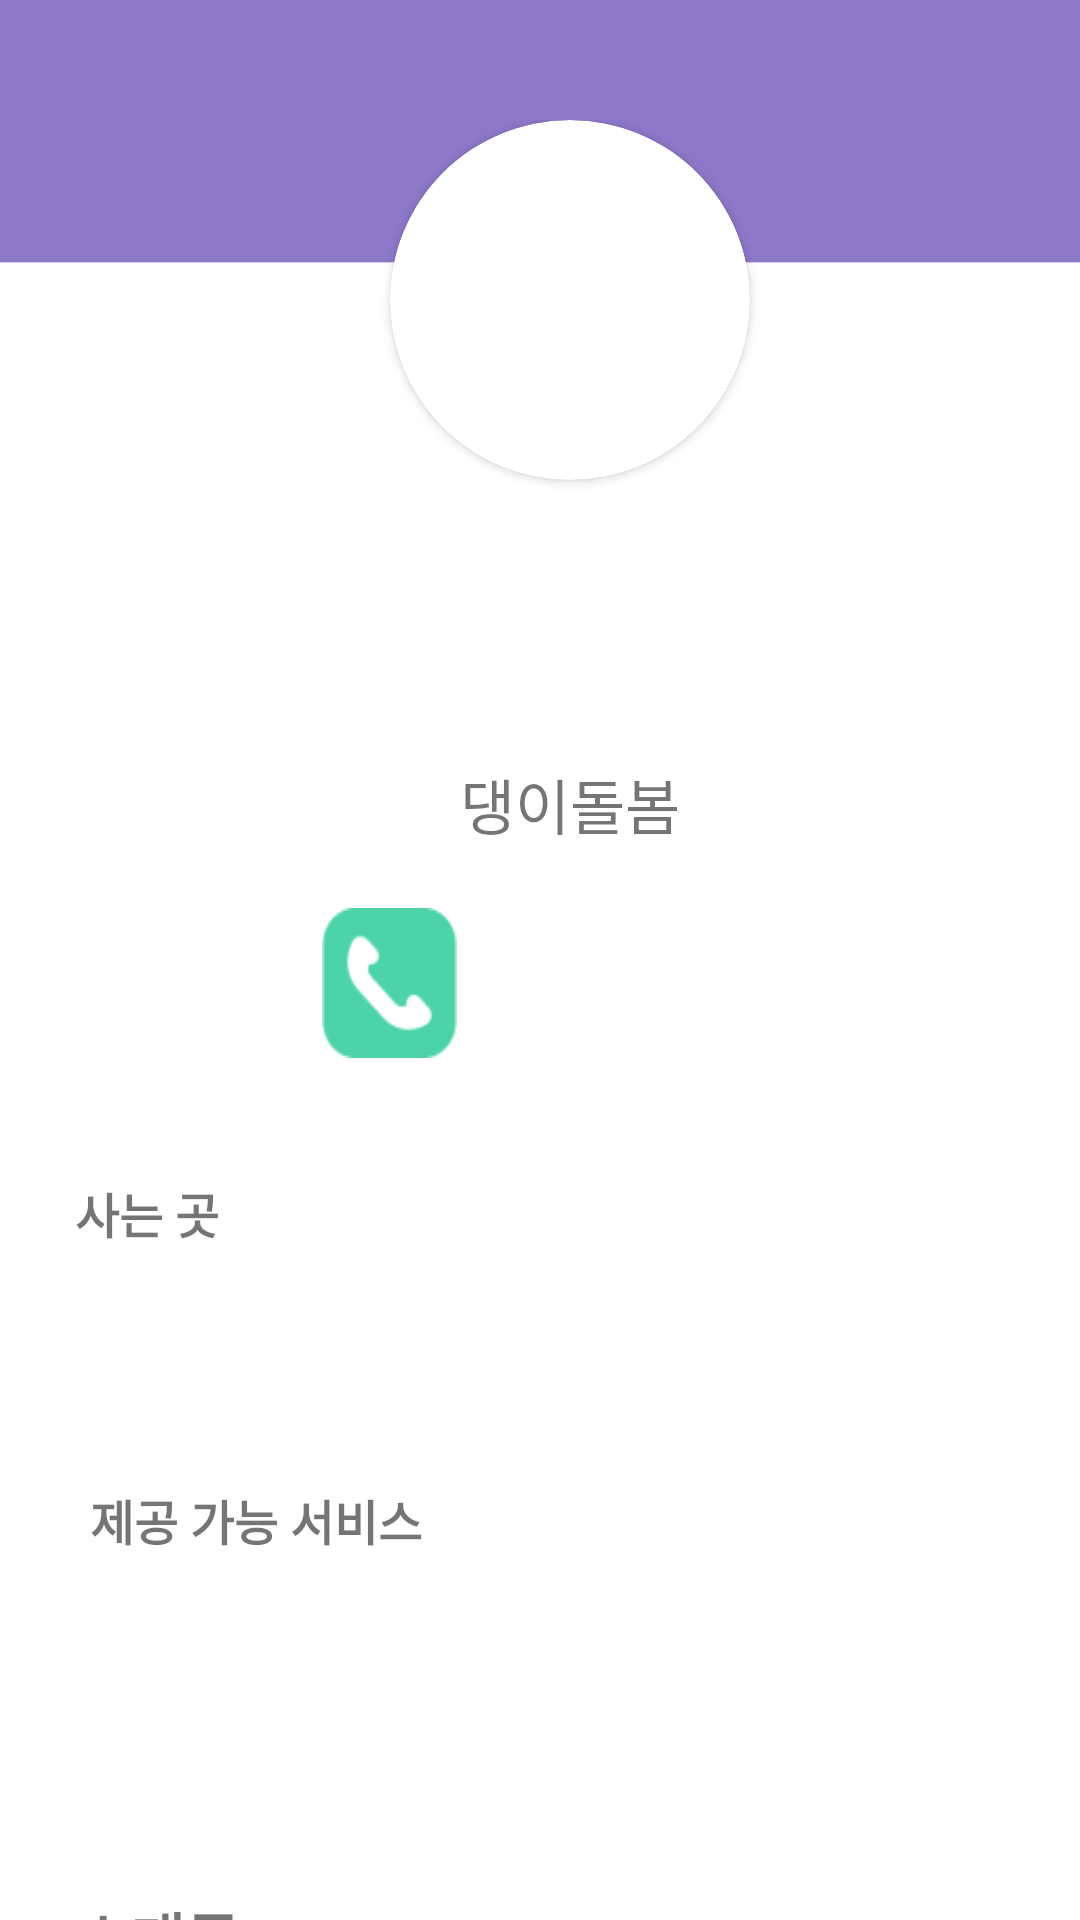

Named icons in this screenshot (1080x1920) and their centers, point (x, y):
phone call: point (389, 983)
